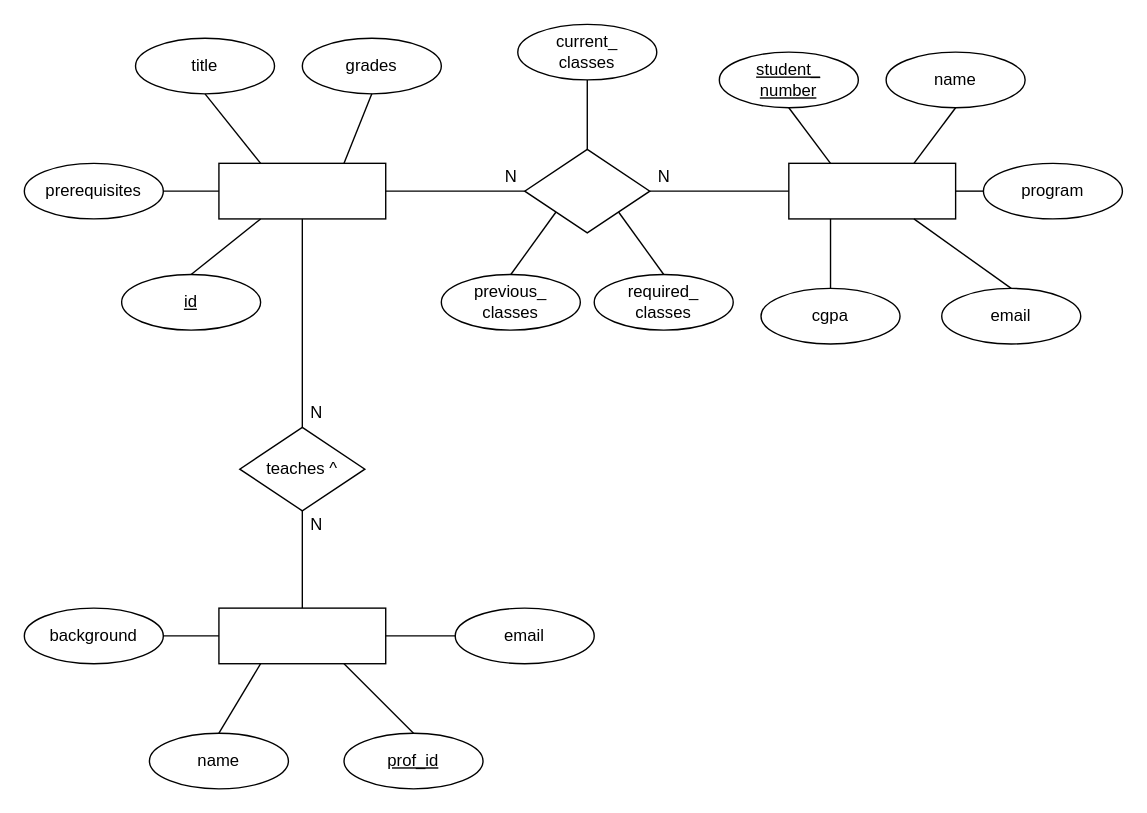
Some shapes in this 1147 by 813 pixel diagram are drawn without their labels. Each missing label, with the centre of its shape:
< takes: the point at 586,190
Classes: the point at 302,190
Professor: the point at 302,635
Student: the point at 871,190
